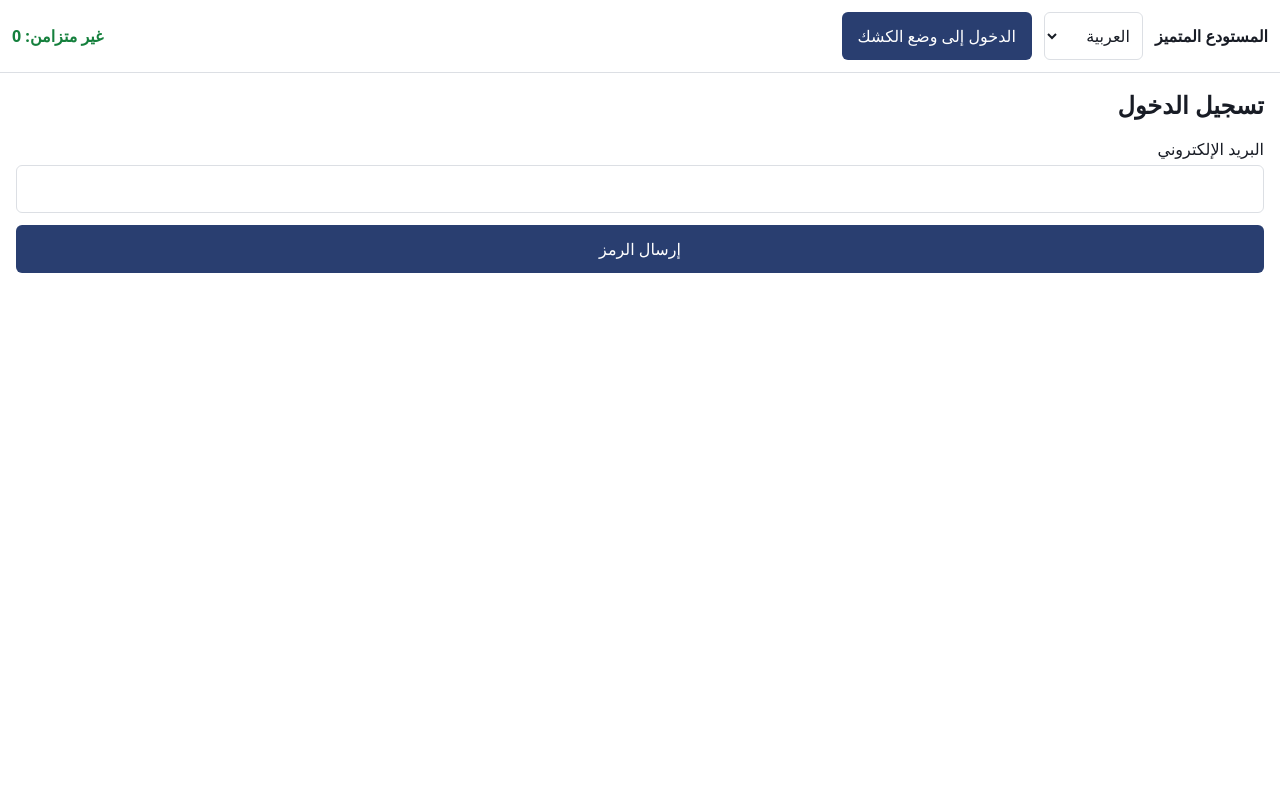
Test: PDA "/login" route — real router + mockClient wiring (fix round 1, finding 1) › requesting then verifying the real fixture code navigates to "/home"
The image size is (1280, 800).
Expected: the heading "تسجيل الدخول" is shown, x1=1118 y1=88 x2=1264 y2=121
In the field labelled "البريد الإلكتروني": (640, 189) x1=16 y1=165 x2=1264 y2=213, type "picker@warehouse.example"
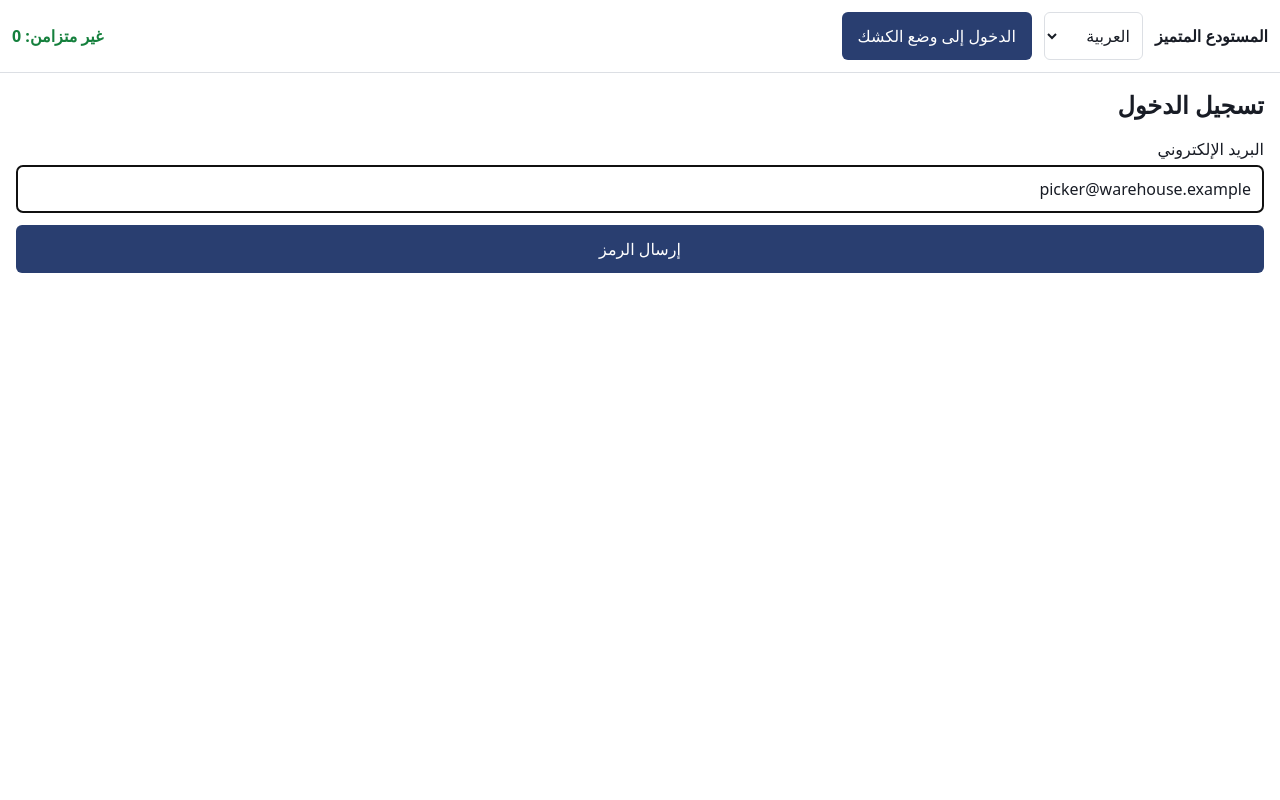
Click the button "إرسال الرمز": (640, 249) x1=16 y1=225 x2=1264 y2=273
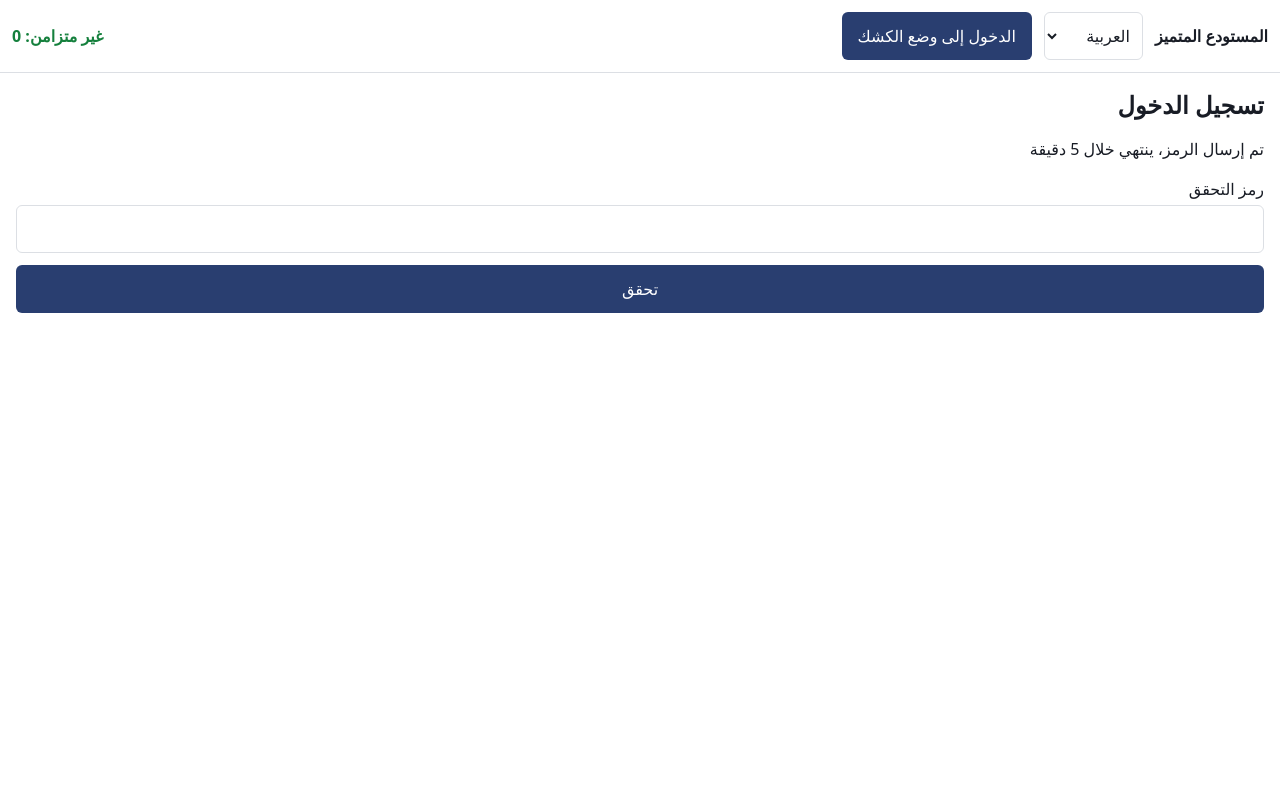
In the field labelled "رمز التحقق": (640, 229) x1=16 y1=205 x2=1264 y2=253, type "123456"
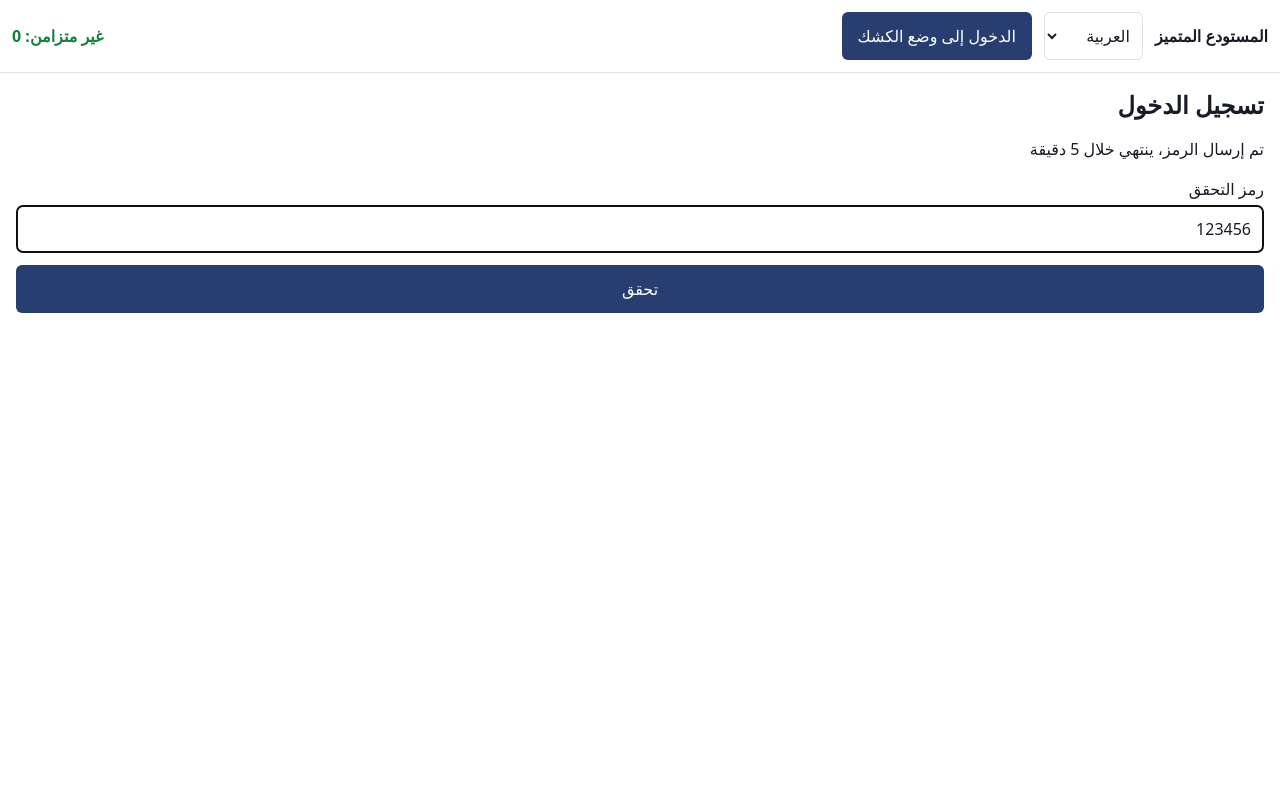
Click the button "تحقق": (640, 289) x1=16 y1=265 x2=1264 y2=313
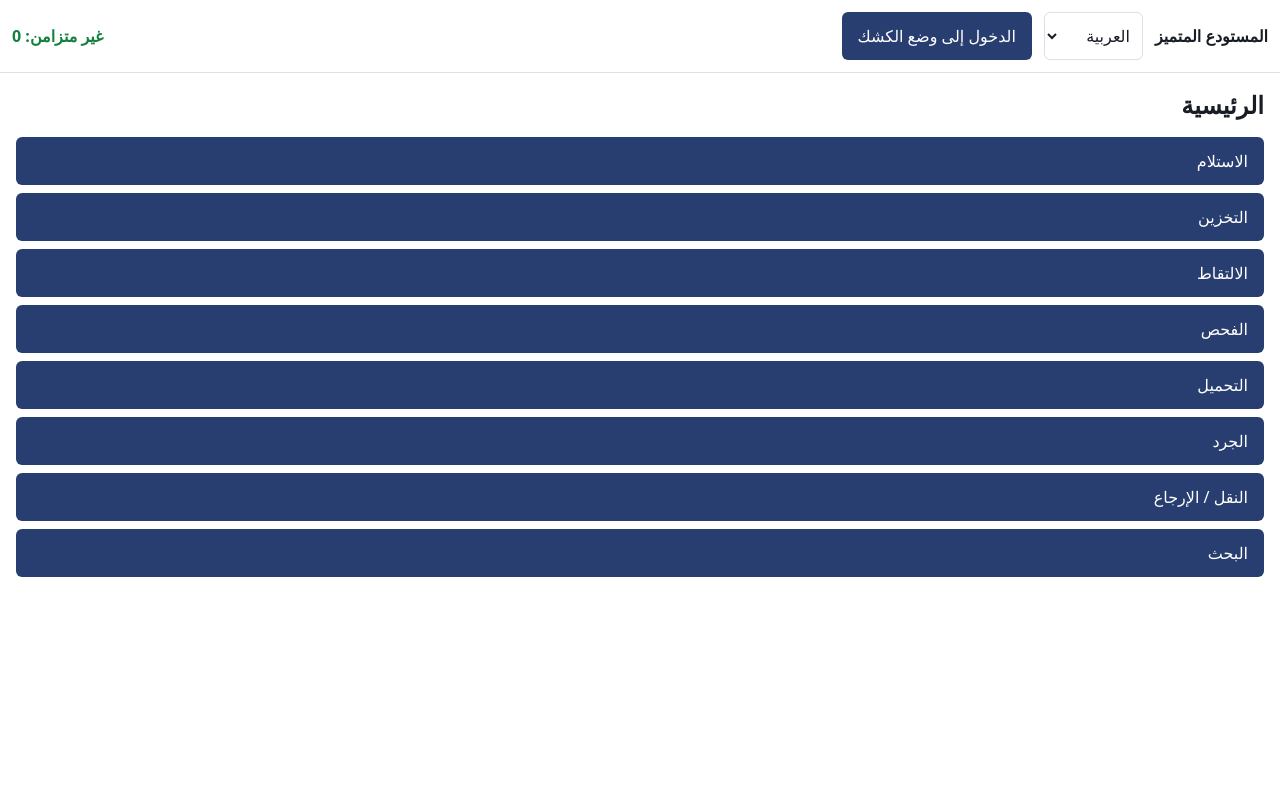
Expected: the heading "الرئيسية" is shown, x1=1181 y1=88 x2=1264 y2=121
